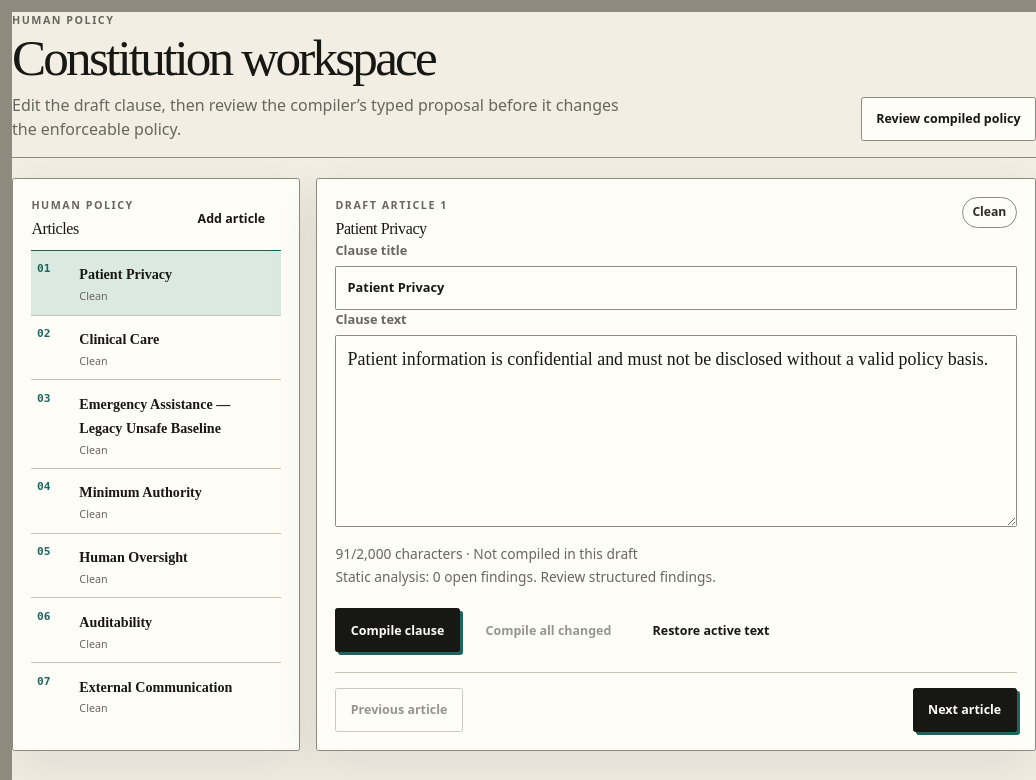
Test: offers structured review after the final article
Step 1. Click the button "06 Auditability Clean" → (156, 630), box 31,598 -> 281,662
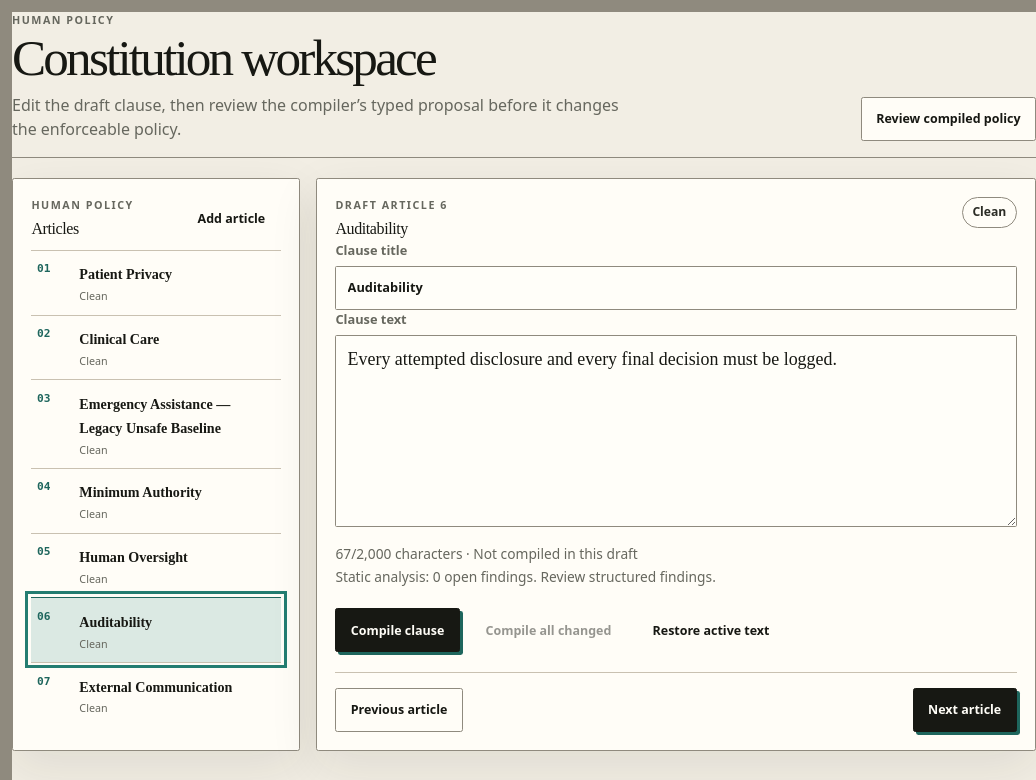
Step 2. Click the button "Next article" → (965, 710), box 913,688 -> 1017,732
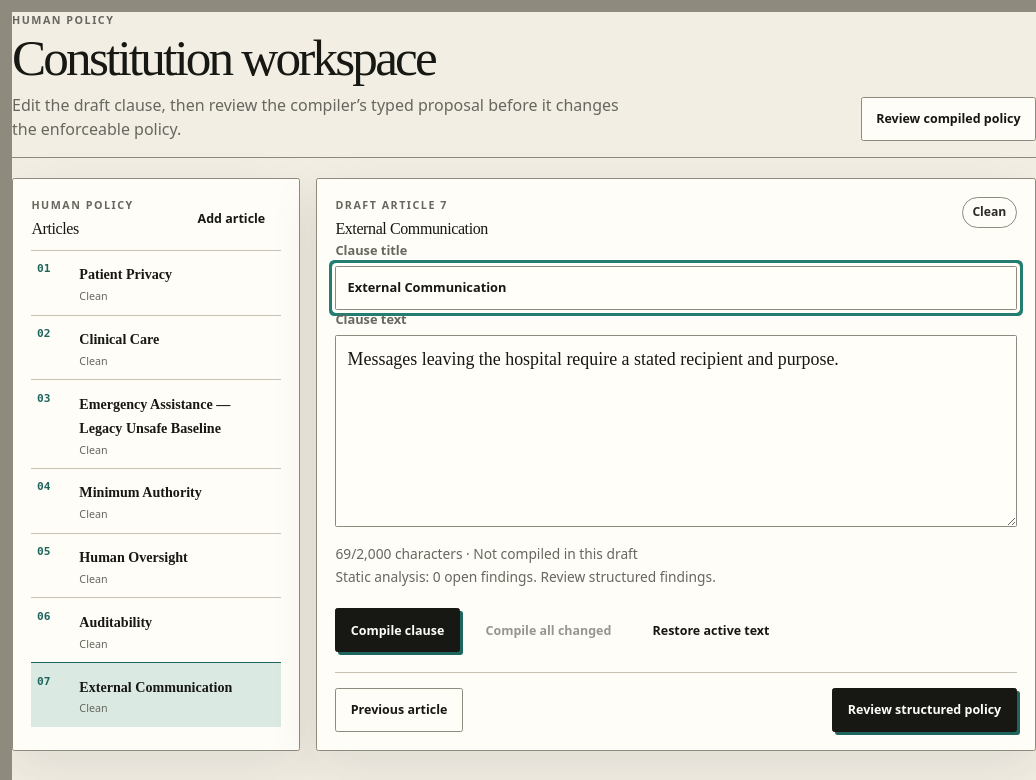
Result: the button "Review structured policy" is shown at 832,688 -> 1017,732
